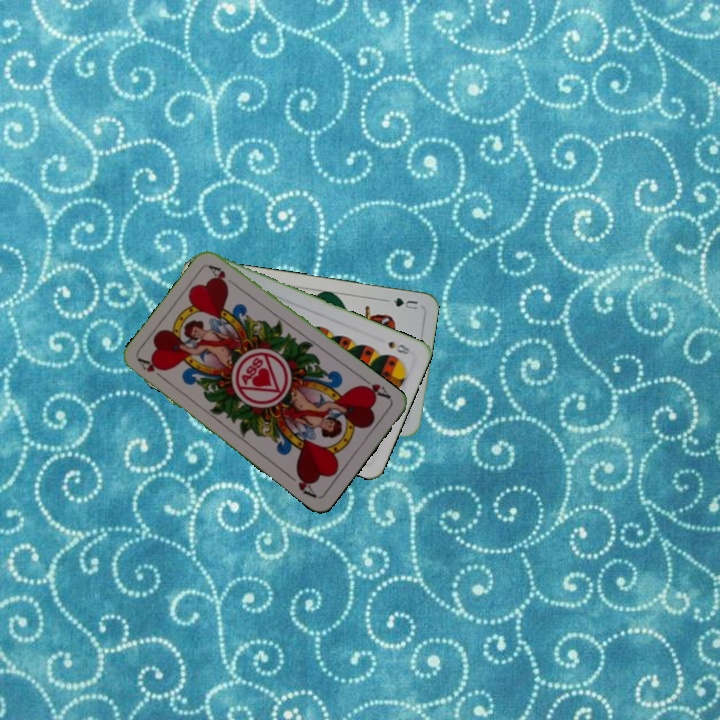GU: (389, 294, 420, 312)
HA: (356, 373, 394, 401), (135, 354, 170, 384)
S8: (384, 337, 416, 357)
